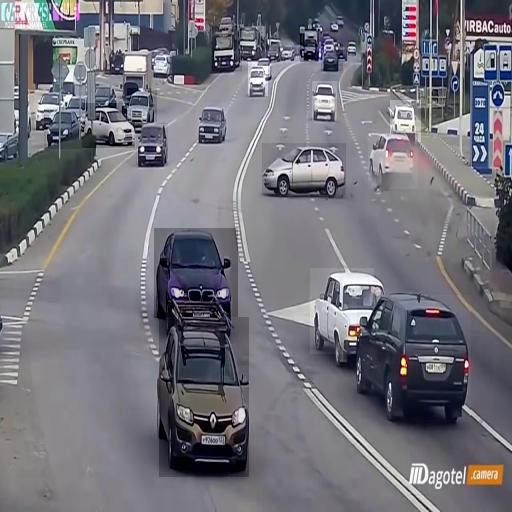小汽车: (358, 295, 472, 422), (159, 318, 249, 478), (154, 228, 238, 318), (310, 268, 374, 354), (262, 143, 346, 195), (368, 133, 418, 189), (82, 103, 135, 148), (44, 108, 82, 150), (212, 26, 242, 71), (136, 123, 168, 165), (390, 100, 421, 142), (196, 103, 228, 143), (34, 86, 64, 126), (127, 88, 157, 122), (312, 81, 337, 121), (248, 62, 268, 96), (300, 29, 319, 62), (321, 44, 343, 71), (154, 50, 172, 74)
